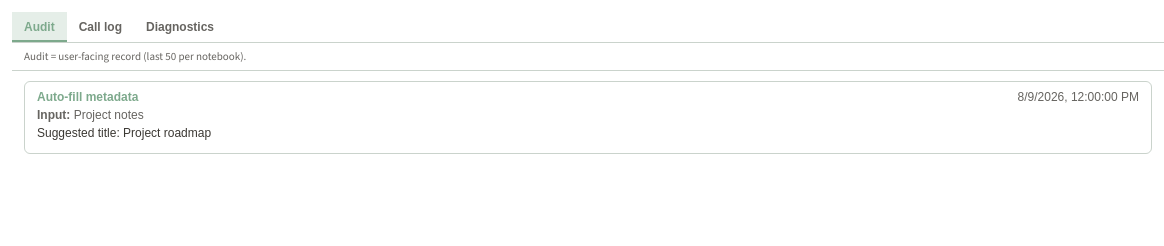
Scenario: AiHistoryPanel › B3: shows op/caller/note title/request_id now that the backend fills them in
Click the tab "Call log": (100, 27) [67,12,134,42]
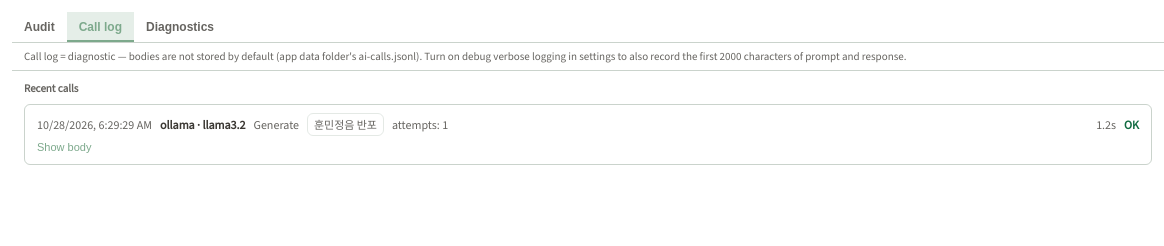
Expected: the text "Generate" is shown, [254,116,299,132]
Expected: the text "훈민정음 반포" is shown, [307,113,384,136]
Click the button "Show body": (64, 147) [37,141,91,153]
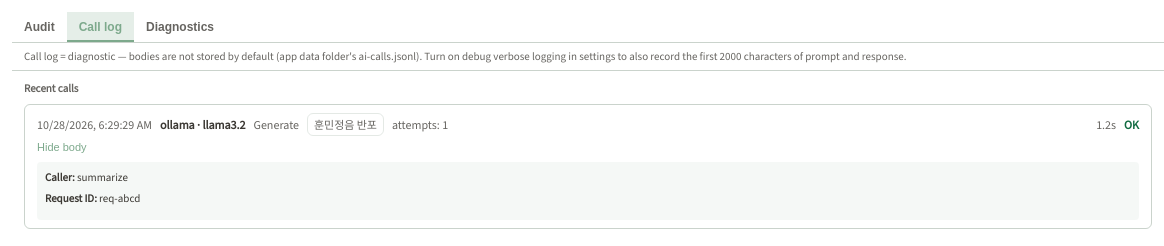
Expected: the text "Caller: summarize" is shown, [45,170,128,185]
Expected: the text "Request ID: req-abcd" is shown, [45,191,140,206]
